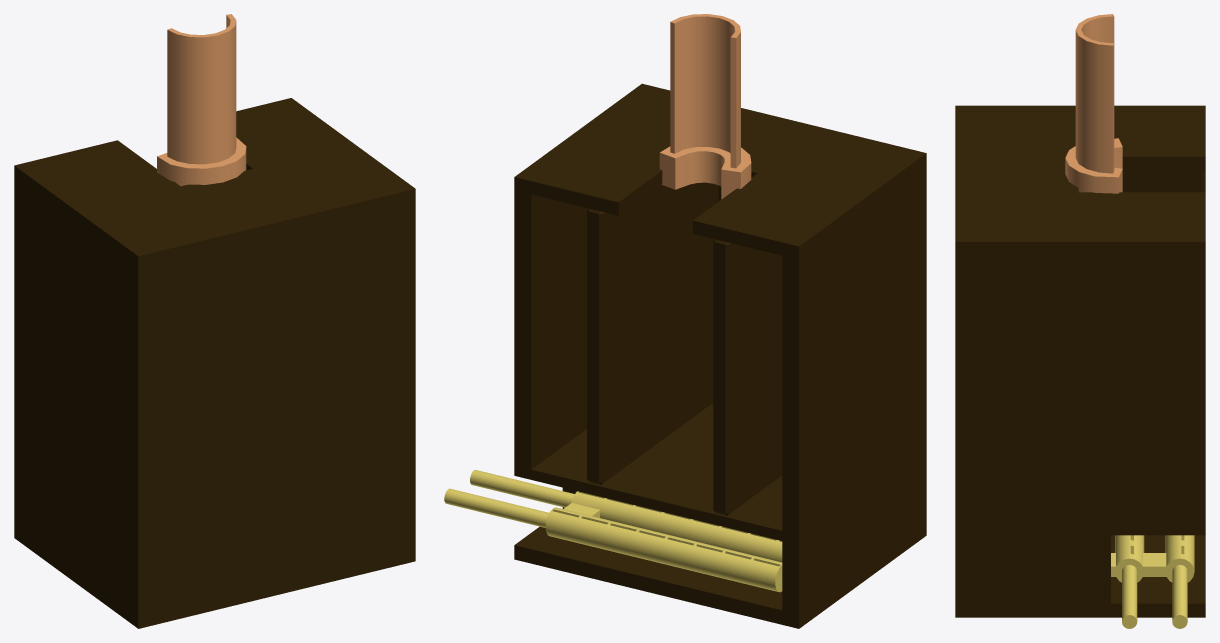
File: PVT Machine0805VA.fbx
The picture shows the model from 3 angles, left to right: view 1: azimuth 30°, elevation 25°; view 2: azimuth 150°, elevation 25°; view 3: azimuth 270°, elevation 25°; orthographic projection. The views are drawn at different scales.
Parts seen in each view (by area): view 1: main body.002, n pipe.001; view 2: main body.002, wall, wall.001, gas source.002, n pipe.001; view 3: main body.002, n pipe.001, gas source.002, wall.001.
Part boxes in pixels (x1,y1,x2,y2): main body.002: [14, 98, 415, 628]; n pipe.001: [157, 14, 246, 186]; main body.002: [514, 83, 926, 628]; wall: [587, 182, 718, 484]; wall.001: [713, 239, 782, 515]; gas source.002: [444, 470, 782, 592]; n pipe.001: [659, 14, 751, 199]; main body.002: [955, 105, 1205, 617]; n pipe.001: [1065, 14, 1122, 193]; gas source.002: [1111, 535, 1194, 628]; wall.001: [1122, 169, 1205, 192].
Bounding box in the file's own units: 2642 × 3673 × 1604.
